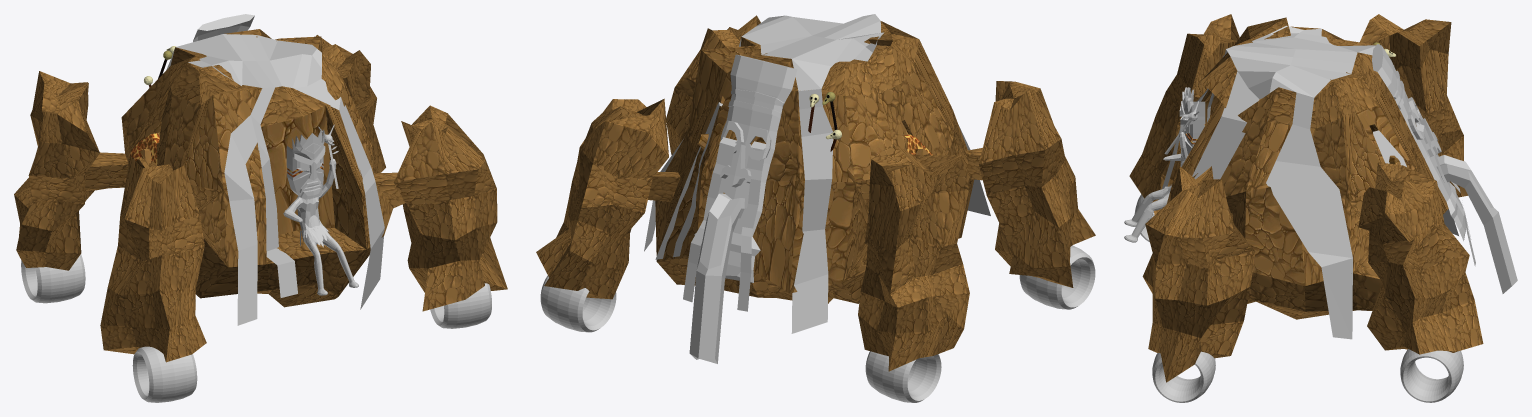
The model's file is Gargantulous_Lava.obj.
The picture shows the model from 3 angles, left to right: view 1: azimuth 30°, elevation 25°; view 2: azimuth 150°, elevation 25°; view 3: azimuth 270°, elevation 25°; orthographic projection. The views are drawn at different scales.
Parts seen in each view (by area): view 1: Cone.002_Cone.004, Cone, Torus.002, Plane.001_Plane.002, Torus.003, Plane.002_Plane.003, Torus, Plane, Cone.001_Cone.002; view 2: Cone.002_Cone.004, Cone, Plane, Torus.003, Torus.001, Torus.002; view 3: Cone.002_Cone.004, Cone, Plane, Torus.001, Torus, Plane.002_Plane.003, Plane.001_Plane.002.
Boxes of the visible parts, x1,y1,x2,y2 form: Cone.002_Cone.004: [14, 29, 507, 362]; Cone: [166, 34, 384, 325]; Torus.002: [132, 346, 197, 402]; Plane.001_Plane.002: [286, 130, 325, 199]; Torus.003: [21, 254, 85, 303]; Plane.002_Plane.003: [283, 158, 358, 295]; Torus: [430, 283, 491, 328]; Plane: [193, 14, 254, 41]; Cone.001_Cone.002: [129, 133, 159, 165]; Cone.002_Cone.004: [536, 15, 1095, 371]; Cone: [644, 14, 990, 363]; Plane: [694, 54, 797, 282]; Torus.003: [865, 351, 941, 402]; Torus.001: [540, 275, 616, 332]; Torus.002: [1019, 245, 1095, 309]; Cone.002_Cone.004: [1129, 14, 1483, 382]; Cone: [1162, 25, 1517, 339]; Plane: [1372, 44, 1465, 241]; Torus.001: [1400, 349, 1463, 402]; Torus: [1152, 351, 1215, 402]; Plane.002_Plane.003: [1124, 131, 1188, 242]; Plane.001_Plane.002: [1179, 87, 1205, 161].
Size of the model in its own units: 4.39 by 2.94 by 3.81.
